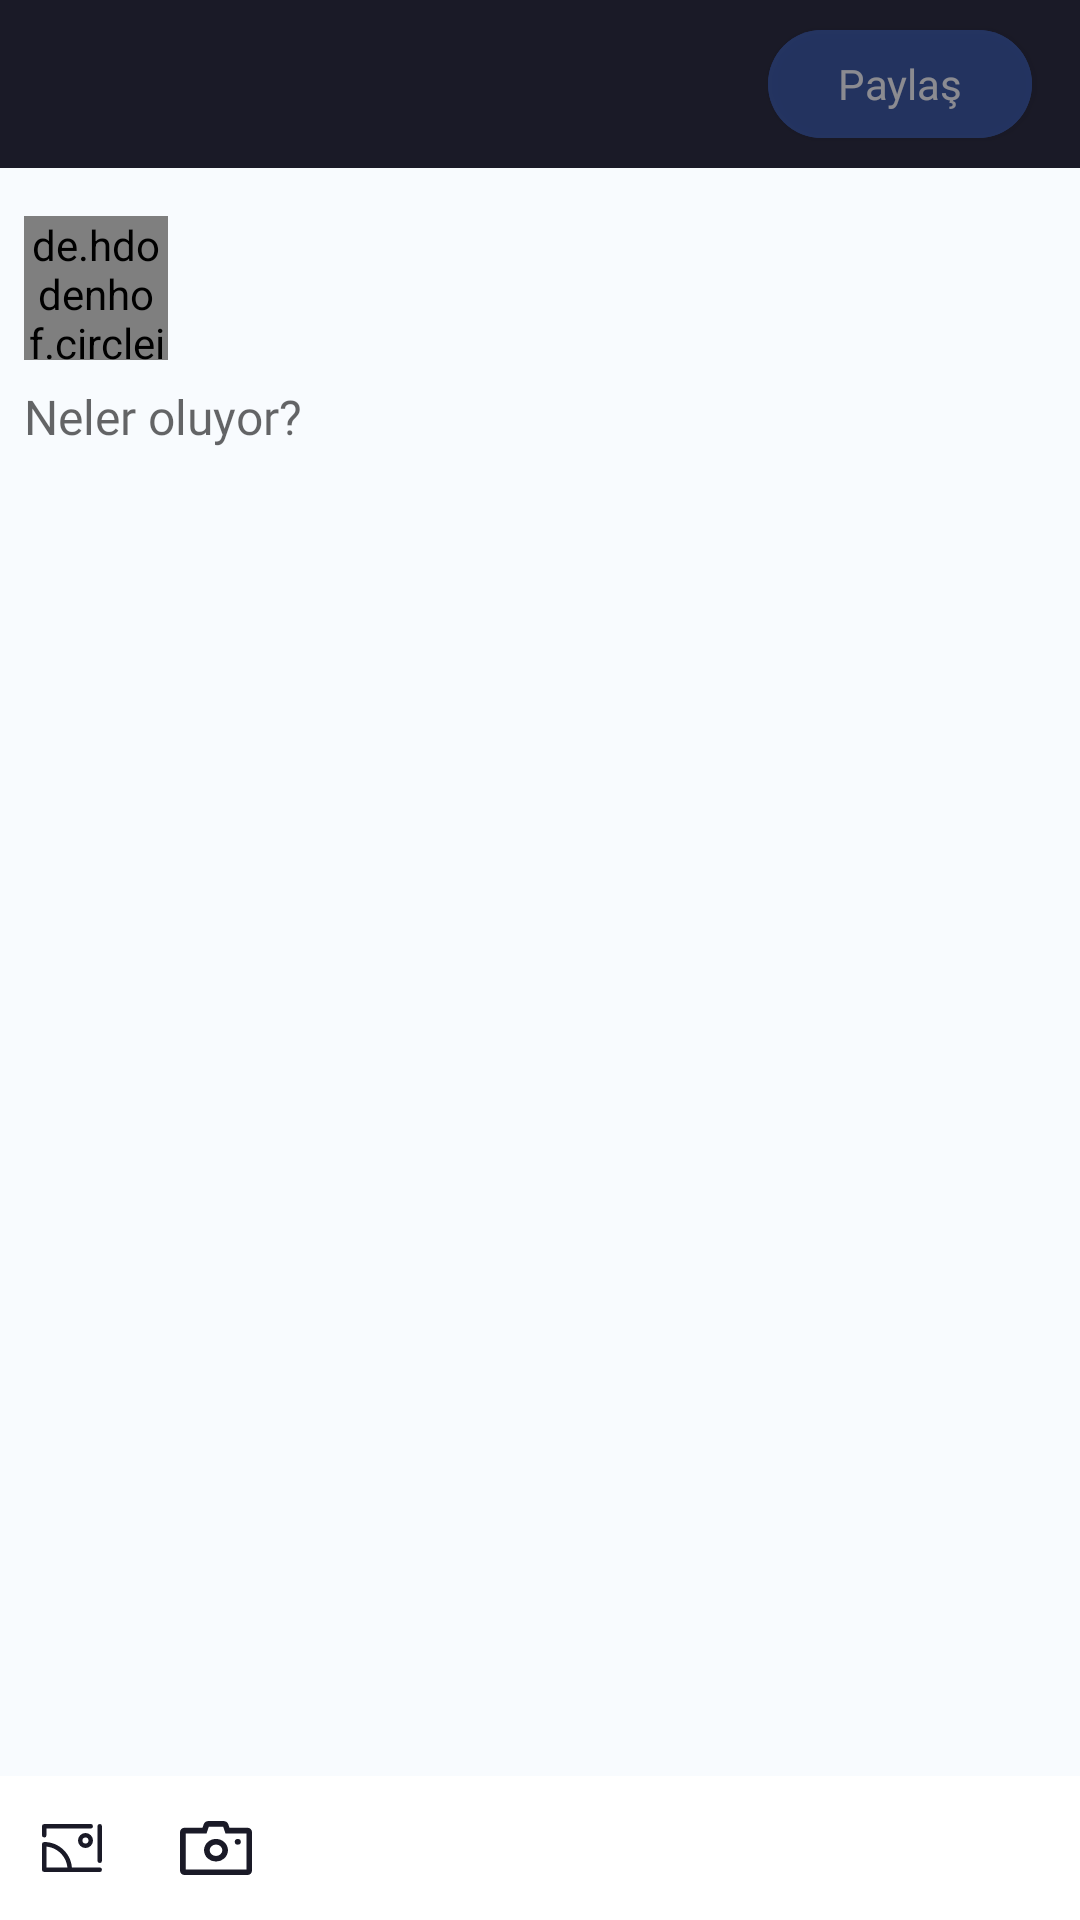

Icon bounding boxes for this 1080 × 1920 phone screenshot, format (x1, y1, x2, y2):
camera: (180, 1821, 252, 1875)
gallery: (42, 1824, 102, 1872)
